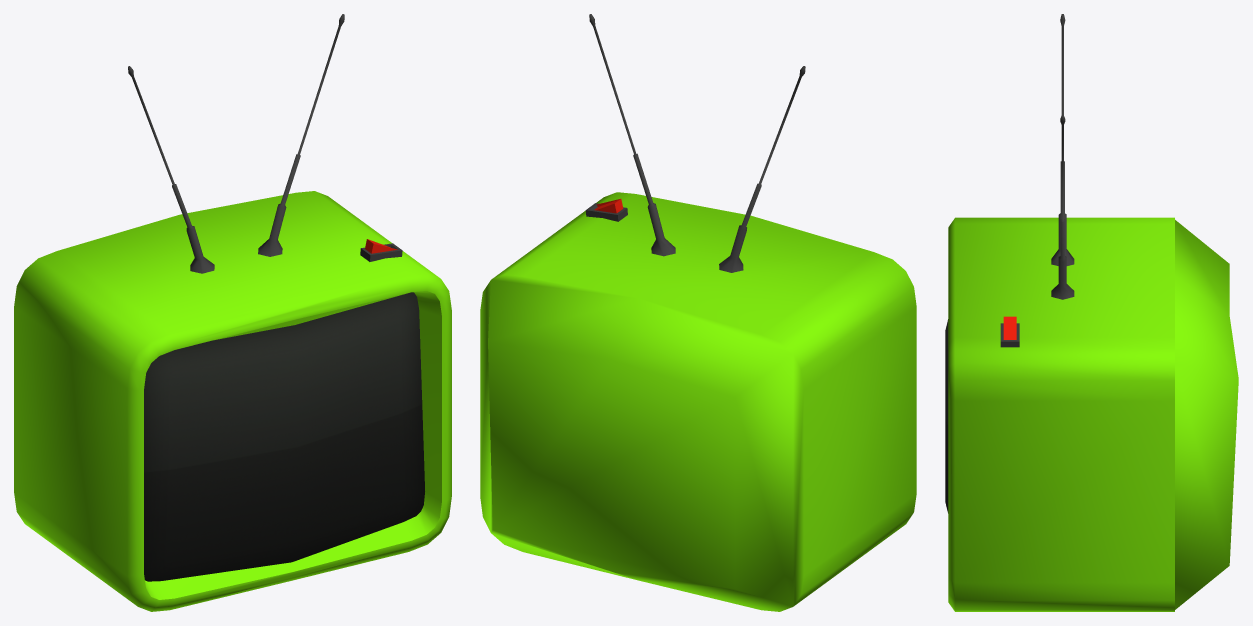
The picture shows the model from 3 angles, left to right: view 1: azimuth 30°, elevation 25°; view 2: azimuth 150°, elevation 25°; view 3: azimuth 270°, elevation 25°; orthographic projection. The views are drawn at different scales.
Parts seen in each view (by area): view 1: Tv; view 2: Tv; view 3: Tv.
Boxes of the visible parts, x1=… form: Tv: x1=14, y1=14, x2=451, y2=611; Tv: x1=480, y1=14, x2=916, y2=611; Tv: x1=945, y1=14, x2=1238, y2=611.
Size of the model in its own units: 125 by 184 by 101.
